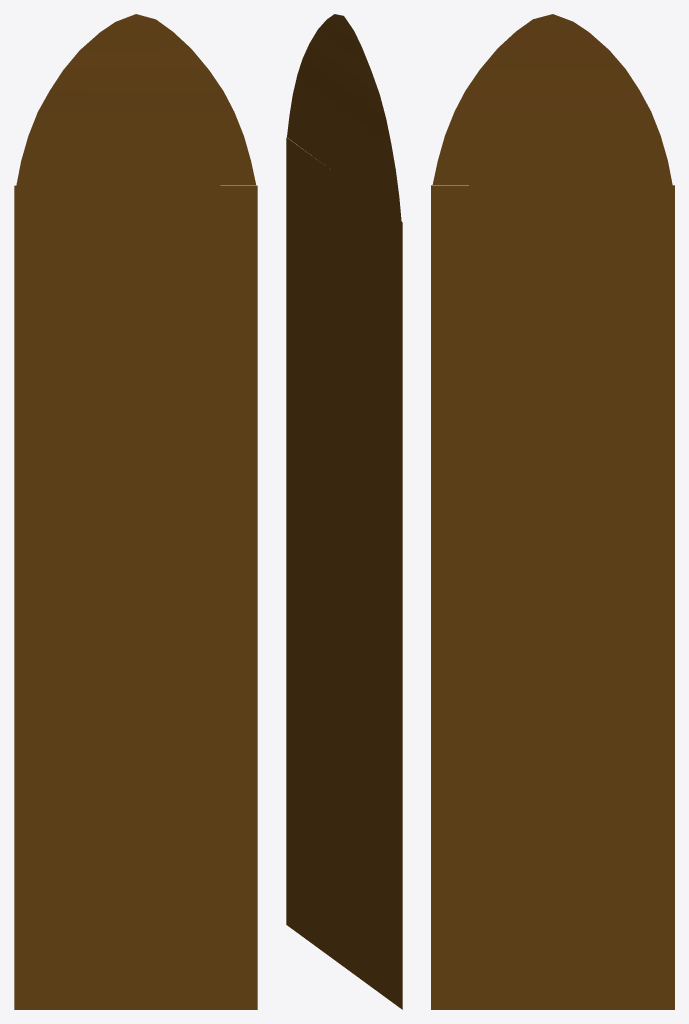
Rendered from StainedGlass_02_x2_Lod0.fbx.
3 views of the same model, side by side, from view 1: azimuth 90°, elevation 25°; view 2: azimuth 210°, elevation 25°; view 3: azimuth 270°, elevation 25° (orthographic). The views are drawn at different scales.
Visible parts, largest first — view 1: StainedGlass_02_x2_Lod0; view 2: StainedGlass_02_x2_Lod0; view 3: StainedGlass_02_x2_Lod0.
Part boxes in pixels (x1,y1,x2,y2): StainedGlass_02_x2_Lod0: [14, 14, 257, 1009]; StainedGlass_02_x2_Lod0: [286, 14, 402, 1009]; StainedGlass_02_x2_Lod0: [431, 14, 674, 1009].
Bounding box in the file's own units: 0.7949 × 725 × 161.
